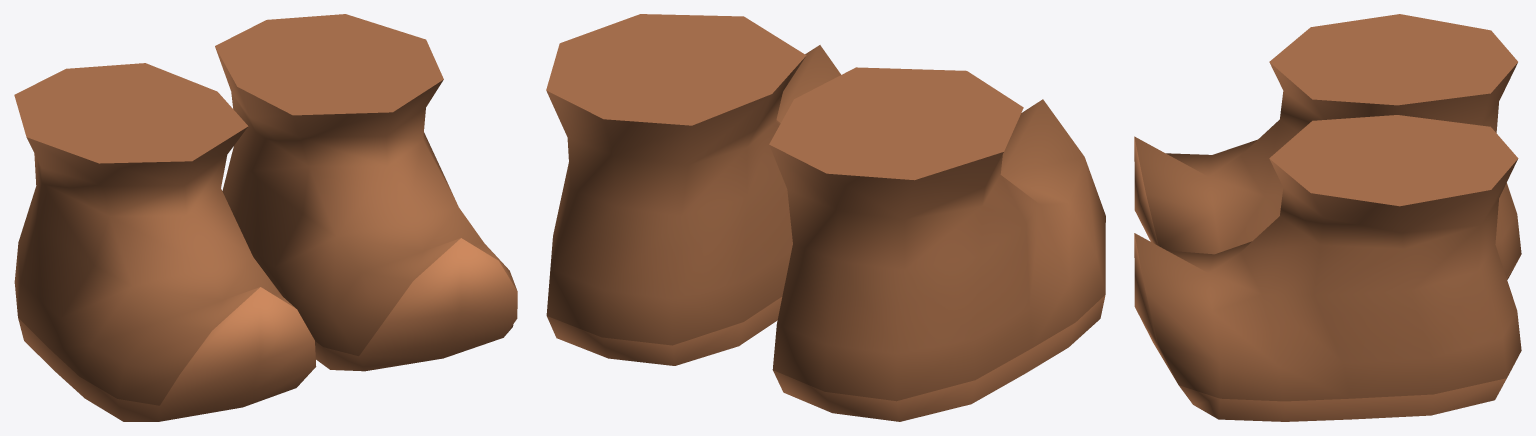
The model's file is Shoes_31.fbx.
3 renders of one model, left to right at view 1: azimuth 30°, elevation 25°; view 2: azimuth 150°, elevation 25°; view 3: azimuth 270°, elevation 25°, orthographic. The views are drawn at different scales.
Parts seen in each view (by area): view 1: Shoes_31; view 2: Shoes_31; view 3: Shoes_31.
Part boxes in pixels (box(x1,y1,x2,y2)): Shoes_31: box(14, 14, 517, 421); Shoes_31: box(546, 14, 1105, 421); Shoes_31: box(1134, 14, 1521, 421).
Size of the model in its own units: 42.53 by 21.61 by 35.16.
